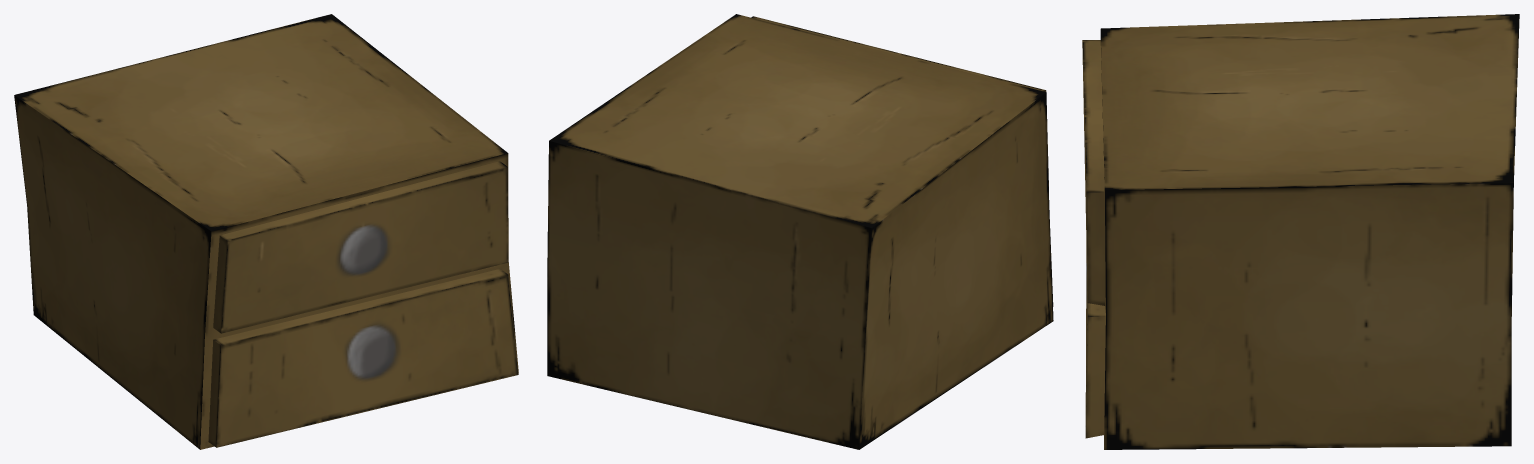
File: Bedside_table.fbx
The picture shows the model from 3 angles, left to right: view 1: azimuth 30°, elevation 25°; view 2: azimuth 150°, elevation 25°; view 3: azimuth 270°, elevation 25°; orthographic projection. The views are drawn at different scales.
Parts seen in each view (by area): view 1: Bedside Table; view 2: Bedside Table; view 3: Bedside Table.
Boxes of the visible parts, box(x1,y1,x2,y2) form: Bedside Table: box(14, 14, 518, 449); Bedside Table: box(547, 14, 1053, 449); Bedside Table: box(1082, 14, 1519, 449).
Size of the model in its own units: 81.05 by 55.09 by 83.15.
Materials: 1 (1 with a texture image).
